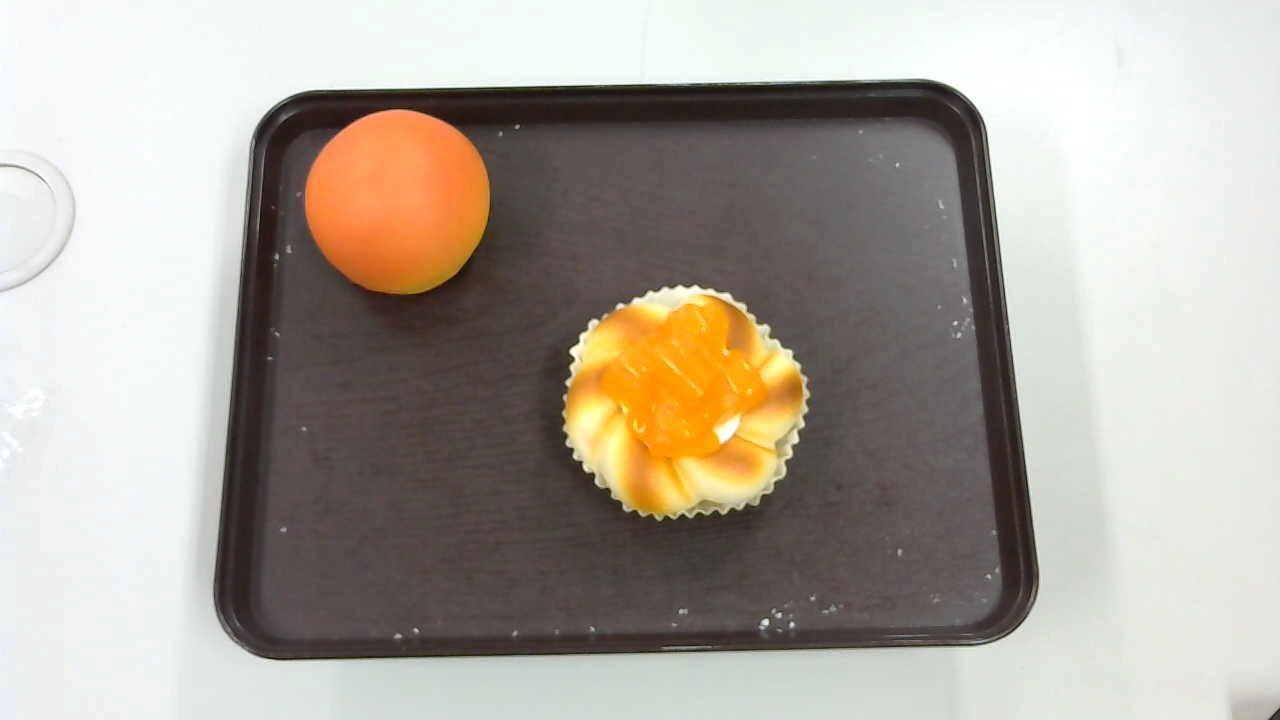bun: (305, 108, 490, 295)
mango tart: (562, 285, 811, 524)
